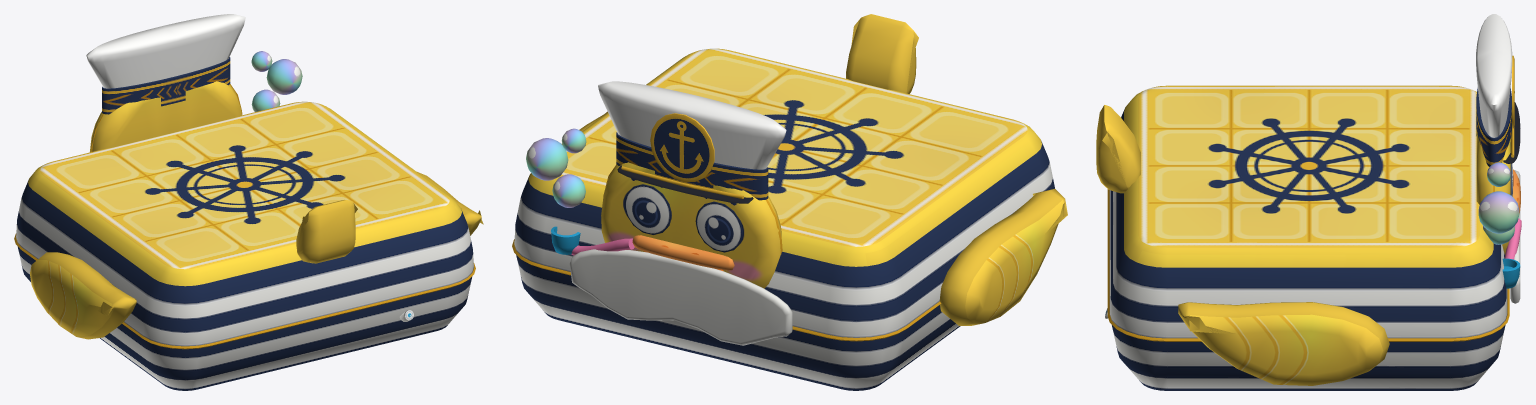
Rendered from pool_duck_captain.glb.
The picture shows the model from 3 angles, left to right: view 1: azimuth 30°, elevation 25°; view 2: azimuth 150°, elevation 25°; view 3: azimuth 270°, elevation 25°; orthographic projection. The views are drawn at different scales.
Visible parts, largest first — view 1: pool_duck_captain_LOD0; view 2: pool_duck_captain_LOD0; view 3: pool_duck_captain_LOD0.
Boxes of the visible parts, x1=… form: pool_duck_captain_LOD0: x1=14, y1=14, x2=483, y2=390; pool_duck_captain_LOD0: x1=512, y1=14, x2=1067, y2=390; pool_duck_captain_LOD0: x1=1096, y1=14, x2=1521, y2=390.
Size of the model in its own units: 24 by 14 by 20.
Materials: 1 (1 with a texture image).
